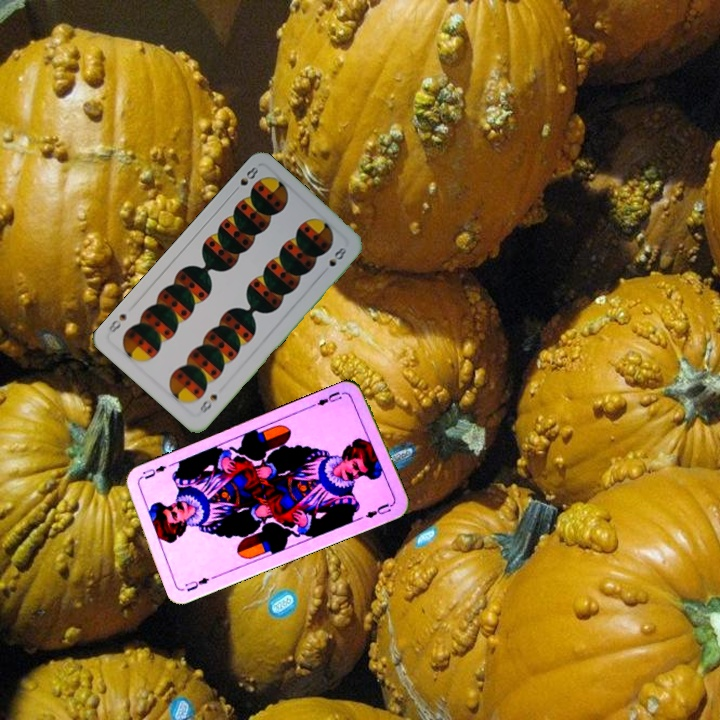EU: (310, 387, 349, 409), (181, 573, 211, 594)
S8: (229, 163, 261, 196), (196, 390, 220, 418)
